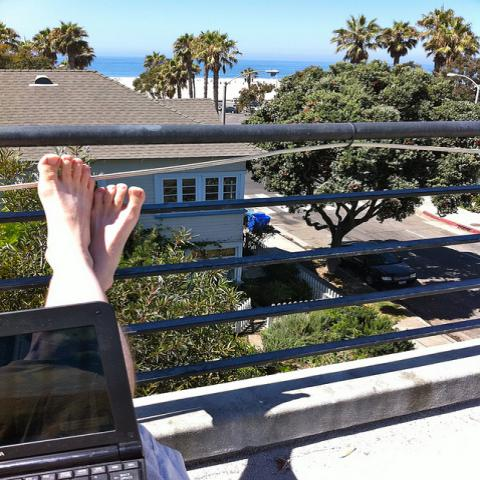car: (322, 240, 418, 290)
